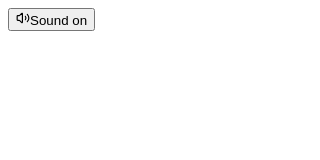
it: MuteButton › shows sound on by default, toggles, and persists the choice
Click the button with class "nl-mute" at x=52, y=20, box [8,8,95,31]
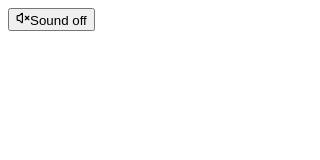
Expected: the button with class "nl-mute" is not pressed
Expected: the button with class "nl-mute" has attribute aria-label="Sound off"
Expected: the button with class "nl-mute" has attribute data-muted="true"
Click the button with class "nl-mute" at x=51, y=20, box [8,8,95,31]
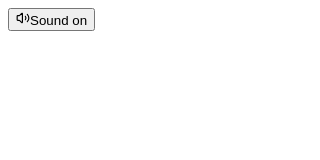
Expected: the button with class "nl-mute" is pressed, [8,8,95,31]
